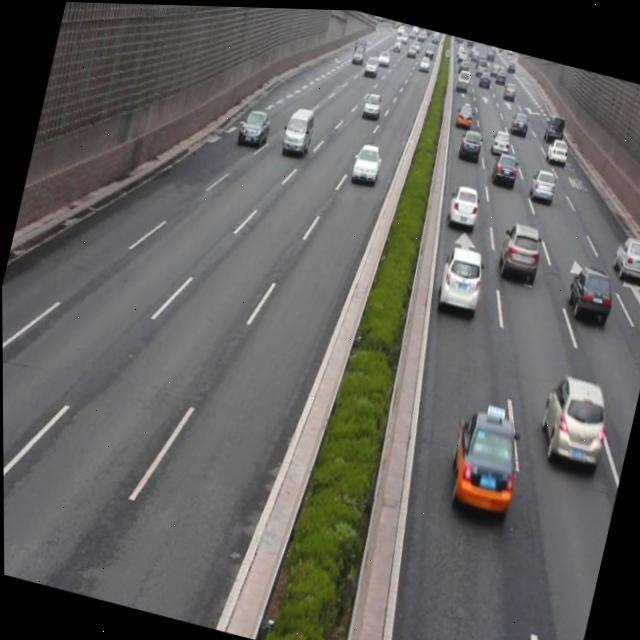car: (441, 402, 525, 516), (532, 367, 612, 471), (433, 237, 486, 311), (562, 258, 617, 329), (494, 216, 543, 281), (444, 178, 482, 228), (609, 228, 640, 283), (348, 137, 383, 183), (237, 103, 271, 145), (488, 144, 520, 186), (526, 163, 555, 203), (455, 124, 483, 161), (487, 123, 511, 154), (543, 134, 568, 162)
truck: (279, 100, 318, 155)
